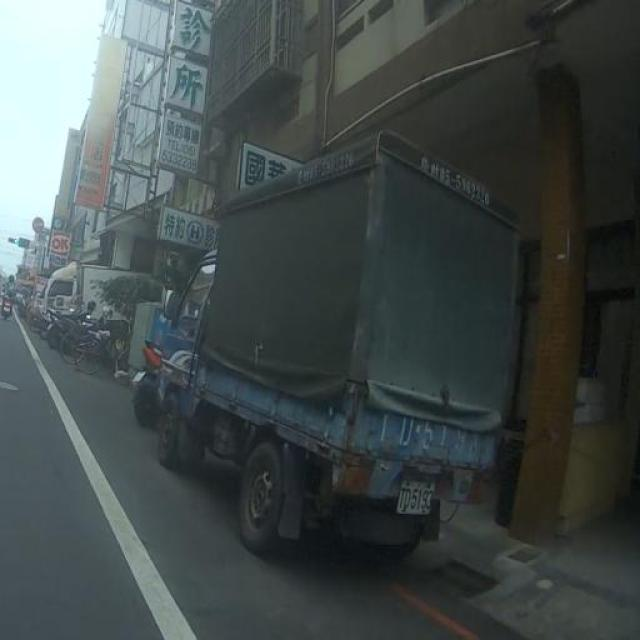Legalparking: (46, 262, 125, 388)
illegalparking: (159, 131, 515, 556)
